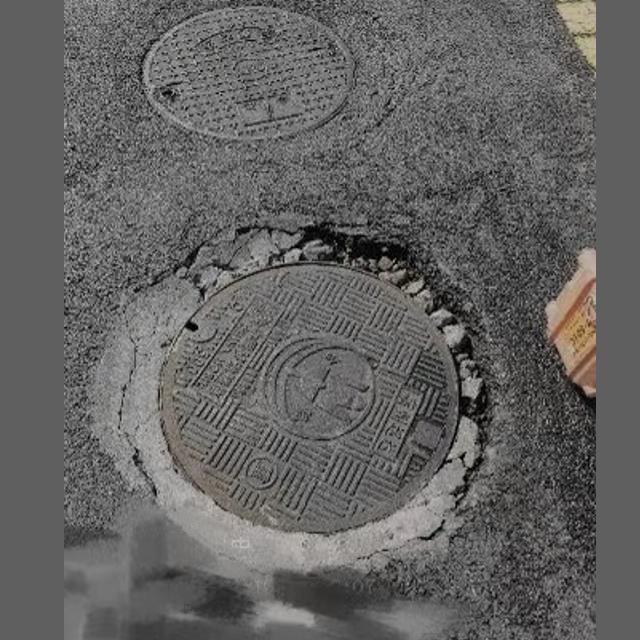circle: (97, 225, 490, 586)
good: (135, 4, 359, 142)
